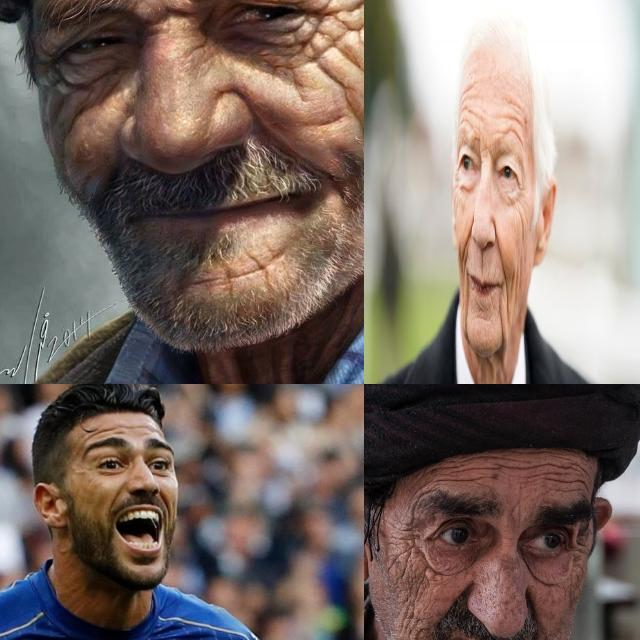chin: (214, 258, 284, 290), (474, 303, 494, 328)
crows_feet: (303, 2, 345, 46), (401, 520, 431, 562), (36, 58, 70, 94), (566, 536, 588, 570), (514, 170, 529, 207), (453, 164, 460, 194)
forehead: (492, 454, 538, 478), (544, 458, 582, 487), (436, 461, 479, 484), (502, 104, 525, 142), (461, 84, 478, 130), (85, 424, 125, 438)
frown_line: (141, 0, 188, 28), (482, 140, 492, 159)
gummy_smile: (248, 104, 294, 154), (442, 582, 470, 618), (493, 224, 505, 274), (107, 486, 123, 514), (160, 495, 172, 529), (463, 218, 472, 262)
masseter: (324, 70, 364, 134), (56, 104, 92, 146), (398, 582, 420, 630), (383, 546, 401, 580), (513, 256, 525, 302), (517, 215, 528, 248)
sad_smile: (501, 278, 510, 334), (462, 267, 469, 315)
